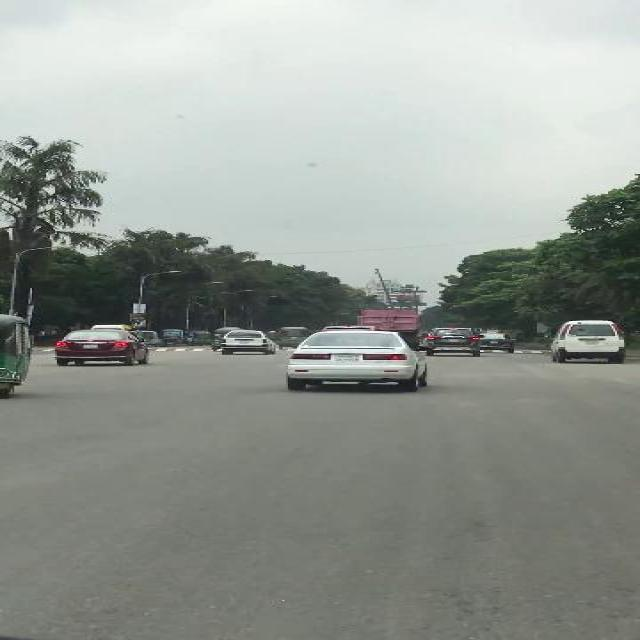car: (288, 345, 420, 389), (50, 328, 149, 364), (421, 326, 482, 357), (220, 329, 272, 354), (482, 331, 517, 353)
motorcycle: (0, 313, 32, 398), (274, 326, 304, 347), (190, 330, 210, 345), (144, 331, 162, 346)
truck: (549, 318, 626, 363), (352, 308, 418, 333)
